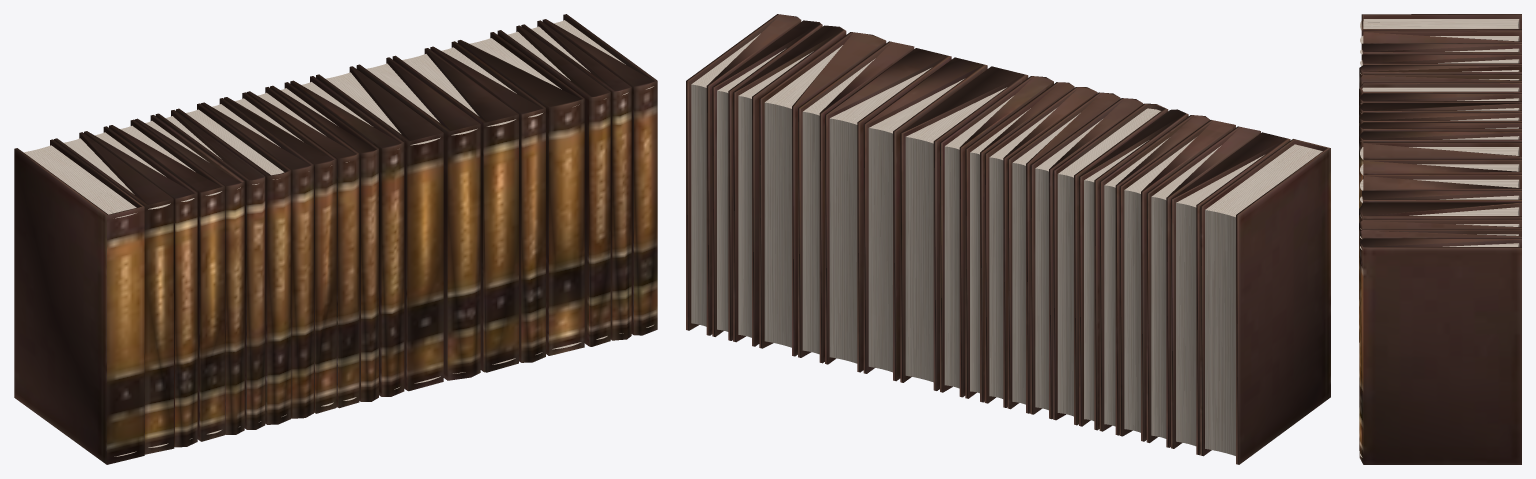
Rendered from decorative_book_set_01.gltf.
The picture shows the model from 3 angles, left to right: view 1: azimuth 30°, elevation 25°; view 2: azimuth 150°, elevation 25°; view 3: azimuth 270°, elevation 25°; orthographic projection. The views are drawn at different scales.
Visible parts, largest first — view 1: book_encyclopedia_set_01_book01, book_encyclopedia_set_01_book13, book_encyclopedia_set_01_book15, book_encyclopedia_set_01_book17, book_encyclopedia_set_01_book14, book_encyclopedia_set_01_book02, book_encyclopedia_set_01_book04, book_encyclopedia_set_01_book16, book_encyclopedia_set_01_book20, book_encyclopedia_set_01_book18, book_encyclopedia_set_01_book07, book_encyclopedia_set_01_book12 (+8 smaller); view 2: book_encyclopedia_set_01_book01, book_encyclopedia_set_01_book13, book_encyclopedia_set_01_book17, book_encyclopedia_set_01_book15, book_encyclopedia_set_01_book14, book_encyclopedia_set_01_book02, book_encyclopedia_set_01_book04, book_encyclopedia_set_01_book16, book_encyclopedia_set_01_book20, book_encyclopedia_set_01_book18, book_encyclopedia_set_01_book07, book_encyclopedia_set_01_book12 (+8 smaller); view 3: book_encyclopedia_set_01_book20, book_encyclopedia_set_01_book17, book_encyclopedia_set_01_book13, book_encyclopedia_set_01_book01, book_encyclopedia_set_01_book15, book_encyclopedia_set_01_book14, book_encyclopedia_set_01_book16, book_encyclopedia_set_01_book02, book_encyclopedia_set_01_book12, book_encyclopedia_set_01_book07, book_encyclopedia_set_01_book03, book_encyclopedia_set_01_book19 (+8 smaller).
Part boxes in pixels (<box>): book_encyclopedia_set_01_book01: <box>14,139,144,464</box>; book_encyclopedia_set_01_book13: <box>316,66,443,391</box>; book_encyclopedia_set_01_book15: <box>392,48,518,372</box>; book_encyclopedia_set_01_book17: <box>457,32,584,355</box>; book_encyclopedia_set_01_book14: <box>356,57,480,380</box>; book_encyclopedia_set_01_book02: <box>54,132,174,454</box>; book_encyclopedia_set_01_book04: <box>109,119,224,441</box>; book_encyclopedia_set_01_book16: <box>430,41,545,362</box>; book_encyclopedia_set_01_book20: <box>542,14,657,335</box>; book_encyclopedia_set_01_book18: <box>497,25,610,346</box>; book_encyclopedia_set_01_book07: <box>176,103,291,424</box>; book_encyclopedia_set_01_book12: <box>290,76,404,396</box>; book_encyclopedia_set_01_book01: <box>1200,139,1330,464</box>; book_encyclopedia_set_01_book13: <box>900,66,1028,390</box>; book_encyclopedia_set_01_book17: <box>759,32,886,356</box>; book_encyclopedia_set_01_book15: <box>825,48,951,372</box>; book_encyclopedia_set_01_book14: <box>863,57,987,381</box>; book_encyclopedia_set_01_book02: <box>1171,132,1290,455</box>; book_encyclopedia_set_01_book04: <box>1119,120,1235,441</box>; book_encyclopedia_set_01_book16: <box>798,41,914,363</box>; book_encyclopedia_set_01_book20: <box>686,14,801,335</box>; book_encyclopedia_set_01_book18: <box>733,25,846,346</box>; book_encyclopedia_set_01_book07: <box>1053,103,1168,425</box>; book_encyclopedia_set_01_book12: <box>940,76,1053,397</box>; book_encyclopedia_set_01_book20: <box>1359,238,1521,464</box>; book_encyclopedia_set_01_book17: <box>1359,202,1521,222</box>; book_encyclopedia_set_01_book13: <box>1360,142,1521,159</box>; book_encyclopedia_set_01_book01: <box>1360,14,1521,36</box>; book_encyclopedia_set_01_book15: <box>1360,174,1521,190</box>; book_encyclopedia_set_01_book14: <box>1360,159,1521,178</box>; book_encyclopedia_set_01_book16: <box>1360,190,1521,204</box>; book_encyclopedia_set_01_book02: <box>1360,31,1521,43</box>; book_encyclopedia_set_01_book12: <box>1359,131,1521,220</box>; book_encyclopedia_set_01_book07: <box>1359,82,1521,96</box>; book_encyclopedia_set_01_book03: <box>1360,43,1521,54</box>; book_encyclopedia_set_01_book19: <box>1359,229,1521,450</box>.
Bounding box in the file's own units: 0.5513 × 0.2374 × 0.1619.
2 materials, 2 textured.
